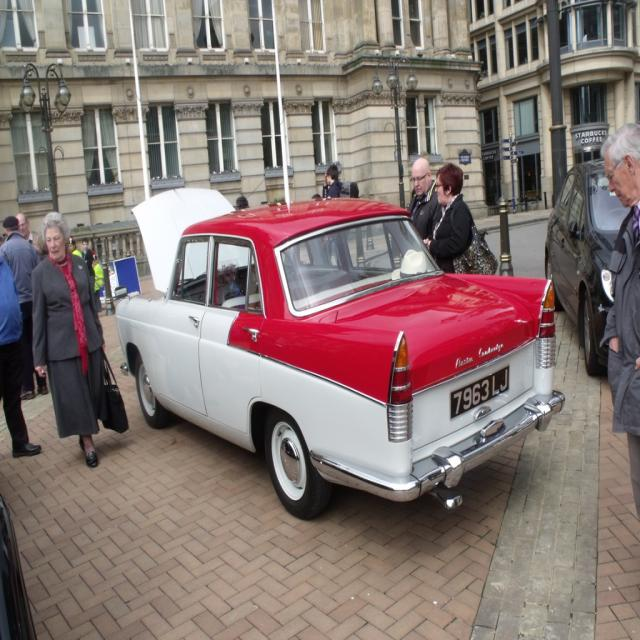car: (117, 181, 566, 512)
